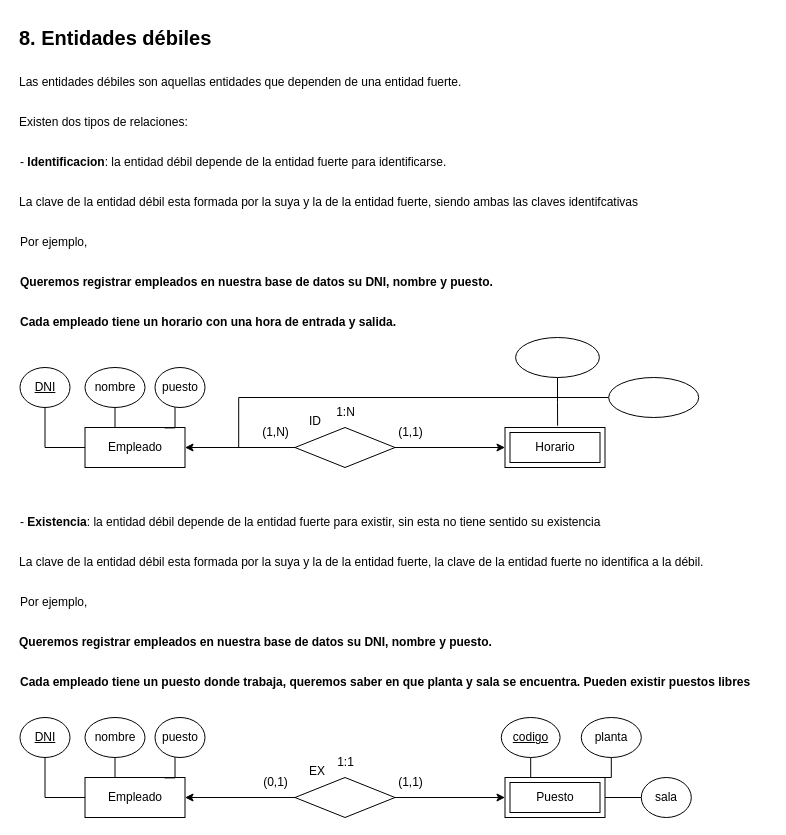
The diagram is 786 pixels wide and 835 high, and some of its shapes have lost their labels. Each missing label, with the centre of its shape:
hora_entrada: point 653,397
hora_salida: point 557,357
tiene: point 344,447
trabaja: point 344,797
